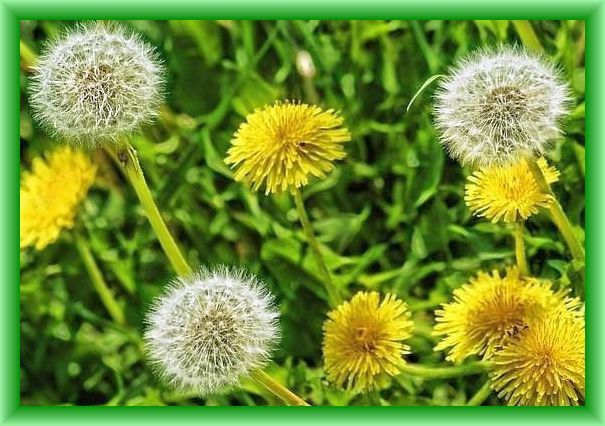begonvil: (134, 265, 284, 406), (27, 18, 172, 150), (424, 48, 564, 184), (224, 93, 355, 215), (424, 262, 544, 361), (317, 289, 417, 406), (449, 148, 571, 242), (487, 305, 590, 412), (18, 148, 104, 264)
